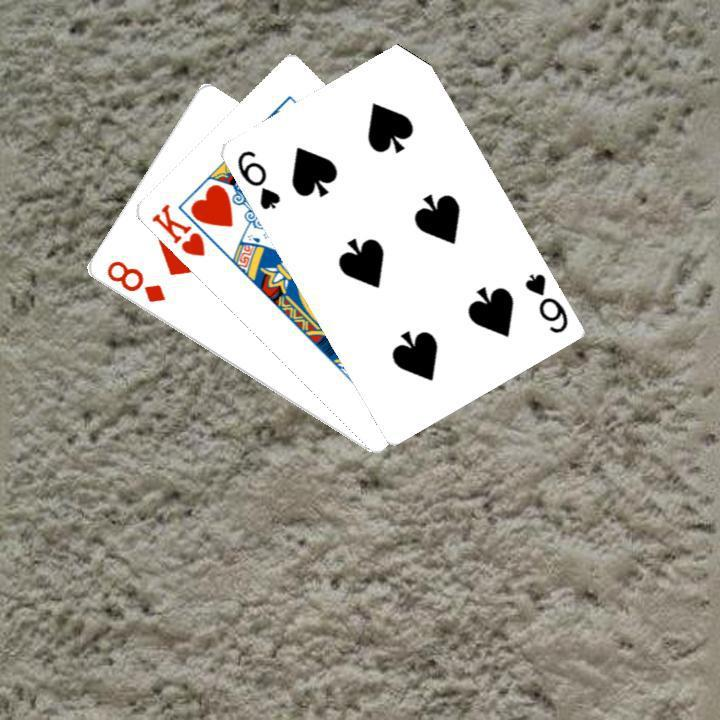6: (519, 268, 570, 336), (232, 145, 282, 212)
8: (101, 256, 168, 305)
K: (146, 199, 207, 259)
